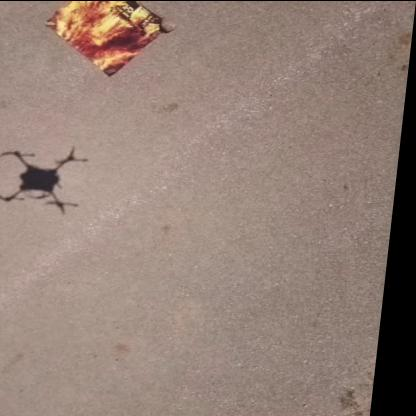fire-poster: (38, 1, 177, 76)
